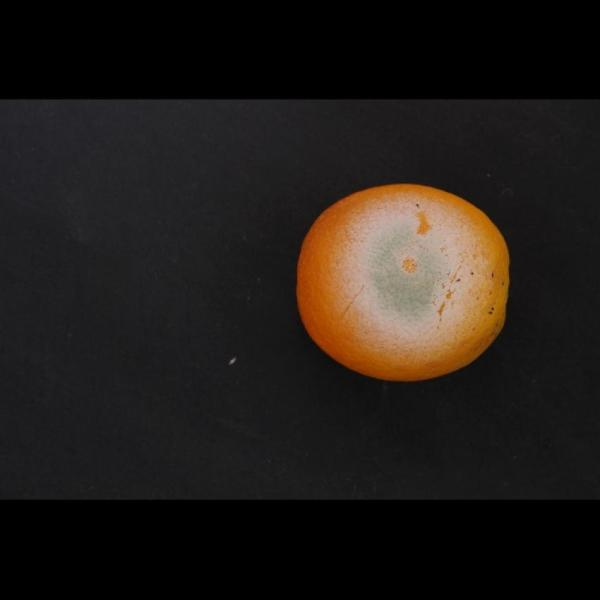Moho verde: (290, 182, 522, 390)
